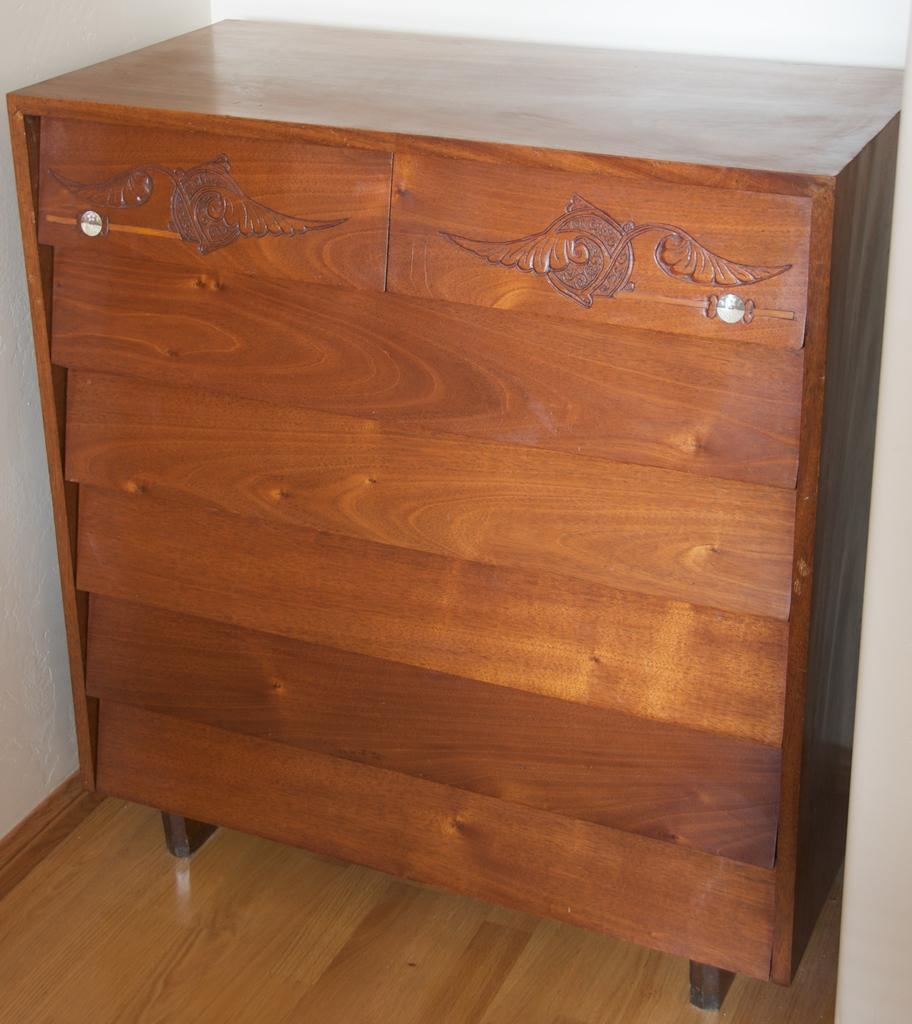cabinet_door: (74, 392, 792, 564), (87, 500, 787, 674), (59, 273, 823, 425), (115, 627, 766, 788), (136, 750, 761, 908), (393, 155, 808, 319), (60, 118, 394, 273)
